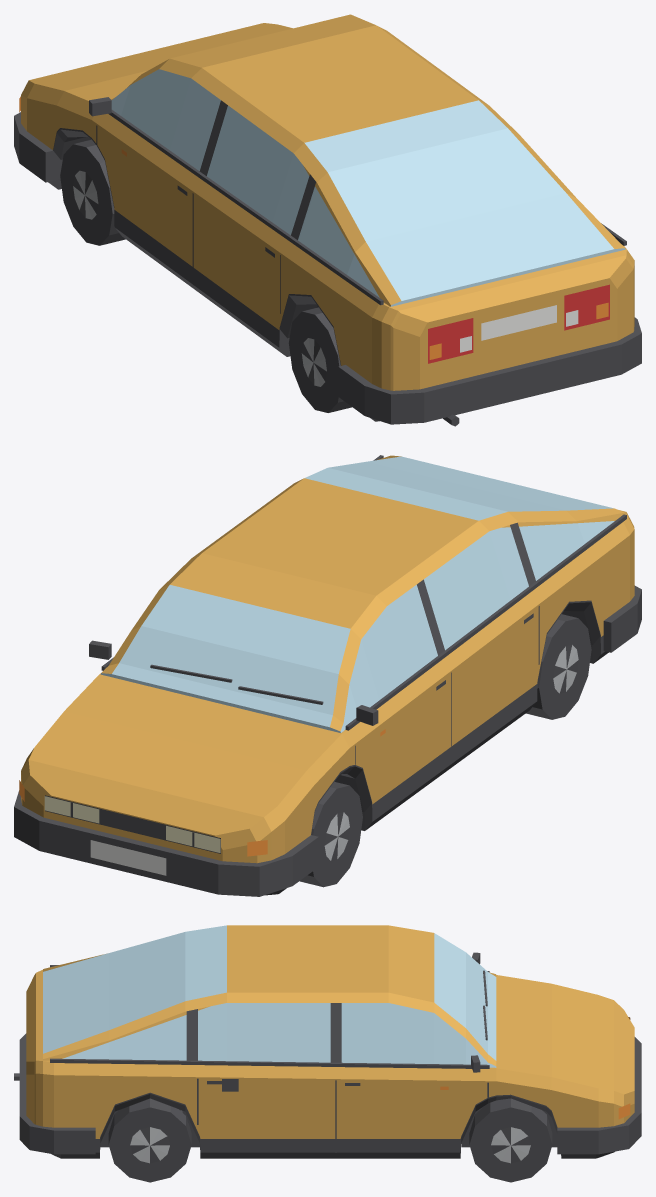
Rendered from sierra.glb.
3 renders of one model, top to bottom at view 1: azimuth 30°, elevation 25°; view 2: azimuth 150°, elevation 25°; view 3: azimuth 270°, elevation 25°, orthographic. The views are drawn at different scales.
Parts seen in each view (by area): view 1: body, door_FL, wheel_FL, wheel_RL; view 2: body, door_FL, wheel_RL, wheel_FL; view 3: body, door_FR, wheel_FR, wheel_RR.
Boxes of the visible parts, x1,y1,x2,y2 form: body: (14, 14, 641, 426); door_FL: (96, 69, 224, 293); wheel_FL: (60, 139, 125, 245); wheel_RL: (288, 307, 351, 412); body: (14, 455, 641, 896); door_FL: (343, 582, 451, 830); wheel_RL: (526, 614, 591, 719); wheel_FL: (299, 782, 362, 887); body: (14, 925, 641, 1158); door_FR: (336, 1003, 488, 1158); wheel_FR: (469, 1098, 552, 1182); wheel_RR: (108, 1098, 191, 1182).
Bounding box in the file's own units: 1.89 × 1.4 × 4.54.
